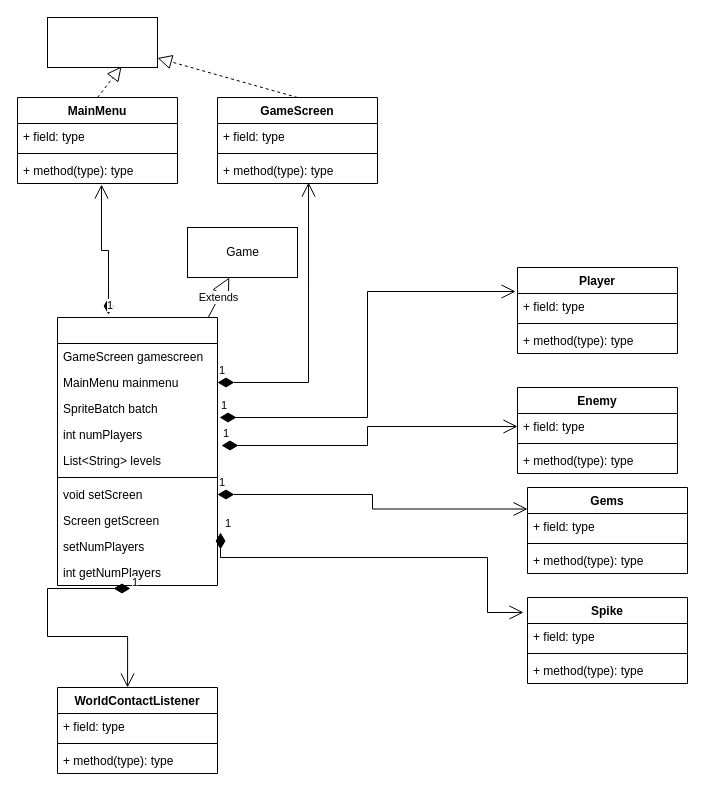
Image size: 705x794. Some labels were removed from this diagram. The shapes that lost their labels are listed below. From the top down, each one's box as (x1, y1, x2, y2) in pixels, then its label:
(46, 16, 158, 68): Screen
(56, 316, 218, 586): Platformer
